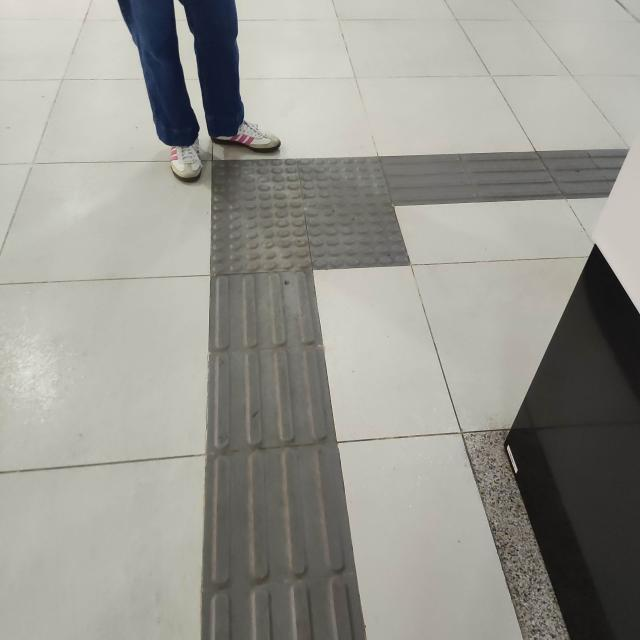kanan: (164, 131, 546, 319)
